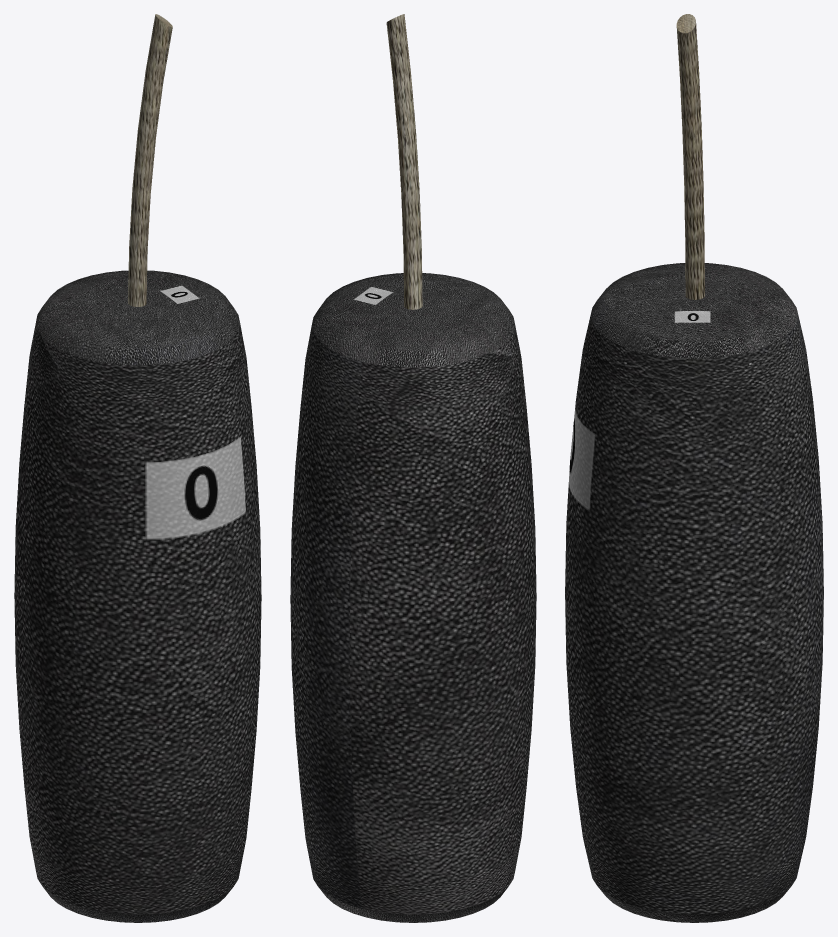
File: punching bag black 0.FBX
3 views of the same model, side by side, from view 1: azimuth 30°, elevation 25°; view 2: azimuth 150°, elevation 25°; view 3: azimuth 270°, elevation 25° (orthographic).
Visible parts, largest first — view 1: Cylinder001, Cylinder002; view 2: Cylinder001, Cylinder002; view 3: Cylinder001, Cylinder002.
Boxes of the visible parts, x1,y1,x2,y2 form: Cylinder001: [14, 270, 261, 922]; Cylinder002: [128, 14, 172, 306]; Cylinder001: [290, 273, 536, 922]; Cylinder002: [386, 14, 422, 309]; Cylinder001: [565, 263, 823, 922]; Cylinder002: [676, 14, 704, 299].
Bounding box in the file's own units: 54.37 × 216 × 56.99.
